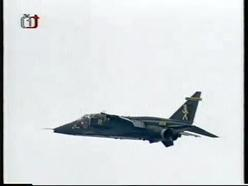aircraft: (53, 91, 220, 148)
